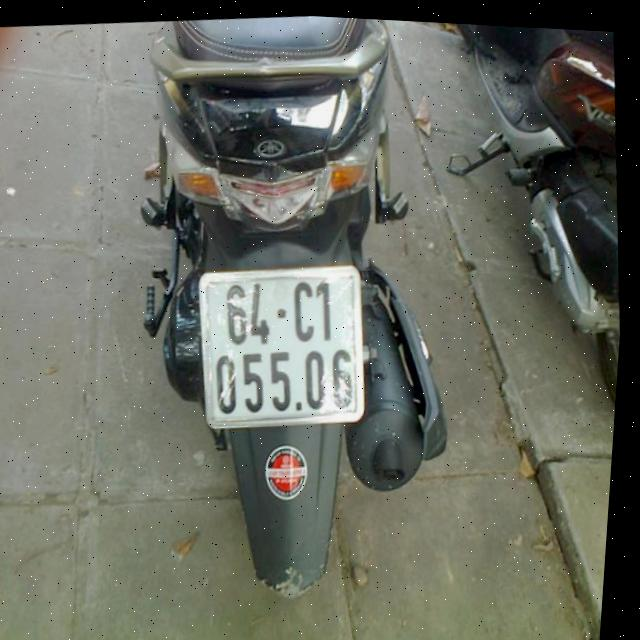motorcycle: (80, 6, 496, 623), (418, 23, 640, 455)
plate: (182, 257, 375, 439)
